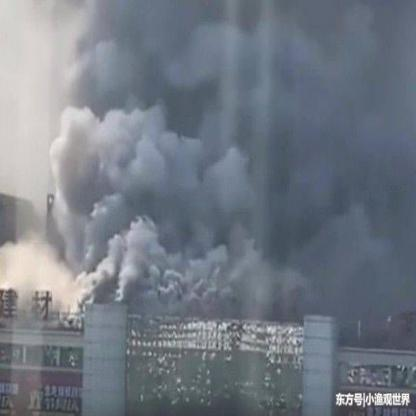smoke: (58, 2, 416, 164), (93, 166, 415, 298), (54, 164, 89, 297)
